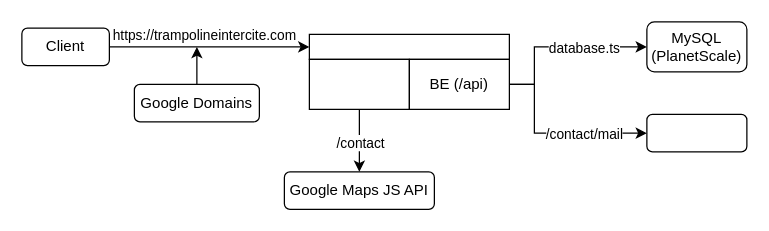
This 769x231 diagram has some shape labels left out. Here are the shapes that lost their labels. From the top down, the box of each, then its label:
(308, 33, 509, 59): NextJS (Vercel)
(308, 58, 409, 109): FE
(646, 113, 747, 152): SendGrid
